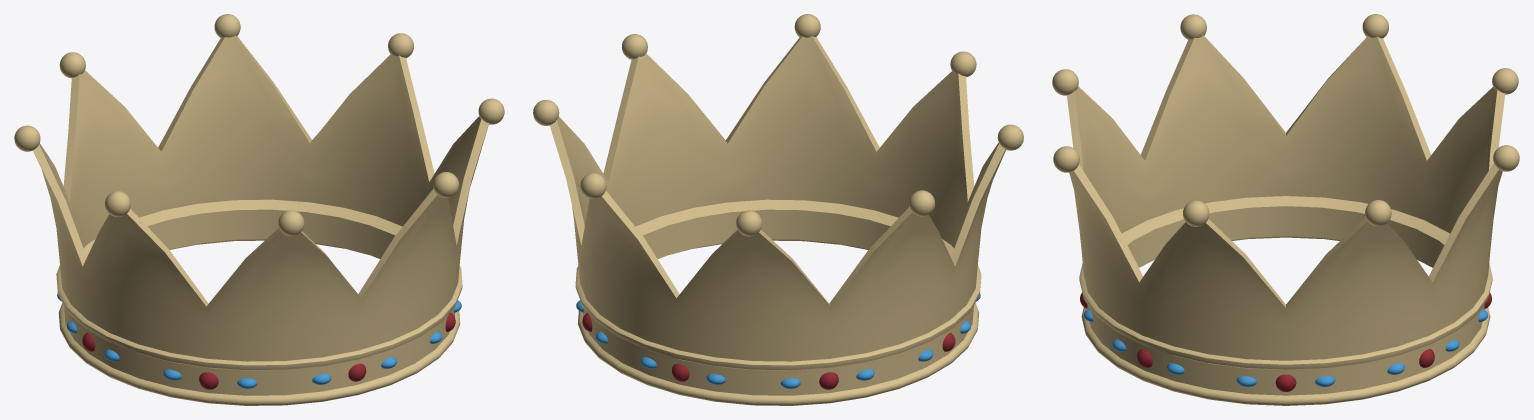
The model's file is Crown.fbx.
3 renders of one model, left to right at view 1: azimuth 30°, elevation 25°; view 2: azimuth 150°, elevation 25°; view 3: azimuth 270°, elevation 25°, orthographic.
Parts seen in each view (by area): view 1: Crown; view 2: Crown; view 3: Crown.
Boxes of the visible parts, box(x1,y1,x2,y2) form: Crown: box(14, 14, 504, 405); Crown: box(533, 14, 1023, 405); Crown: box(1052, 14, 1519, 405).
Size of the model in its own units: 224 by 113 by 224.
